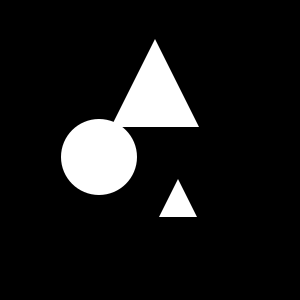rectangle: (61, 119, 137, 195)
triangle: (111, 39, 199, 127), (159, 179, 197, 217)
